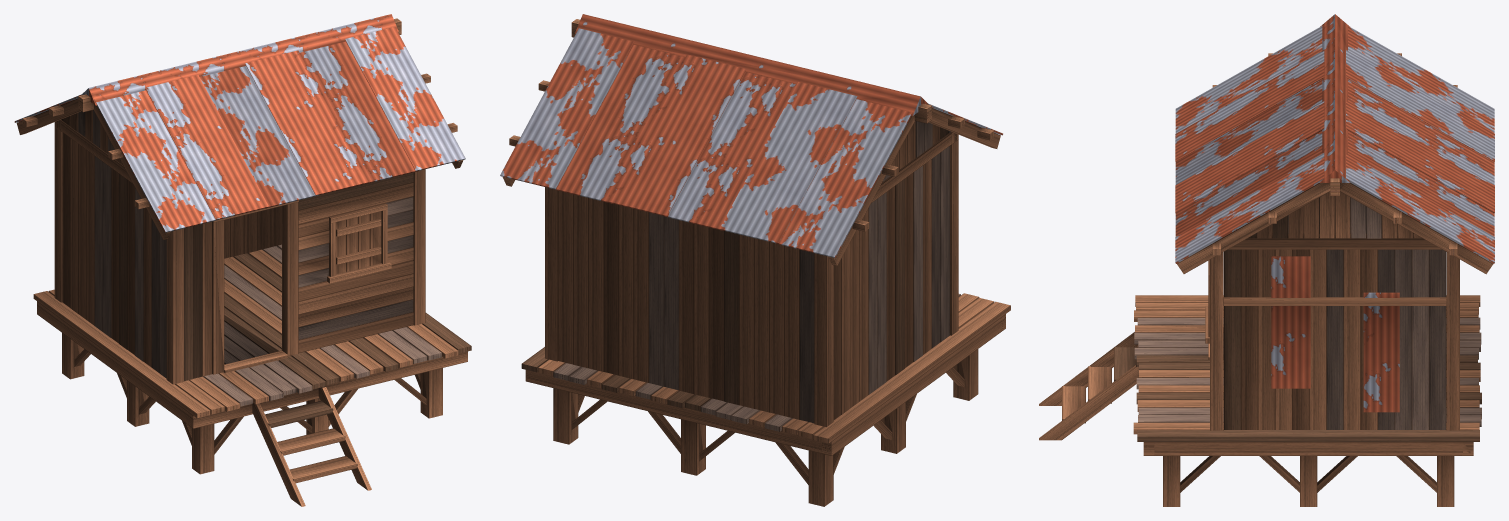
Rendered from houdini_stilt_shack.glb.
The picture shows the model from 3 angles, left to right: view 1: azimuth 30°, elevation 25°; view 2: azimuth 150°, elevation 25°; view 3: azimuth 270°, elevation 25°; orthographic projection. The views are drawn at different scales.
Visible parts, largest first — view 1: LOD0; view 2: LOD0; view 3: LOD0.
Boxes of the visible parts, x1,y1,x2,y2 form: LOD0: (14,14,471,506); LOD0: (500,14,1010,506); LOD0: (1039,14,1494,506).
Size of what is drawn, in the model's own units: 4.04 by 4.05 by 4.74.
Materials: 5 (5 with a texture image).
